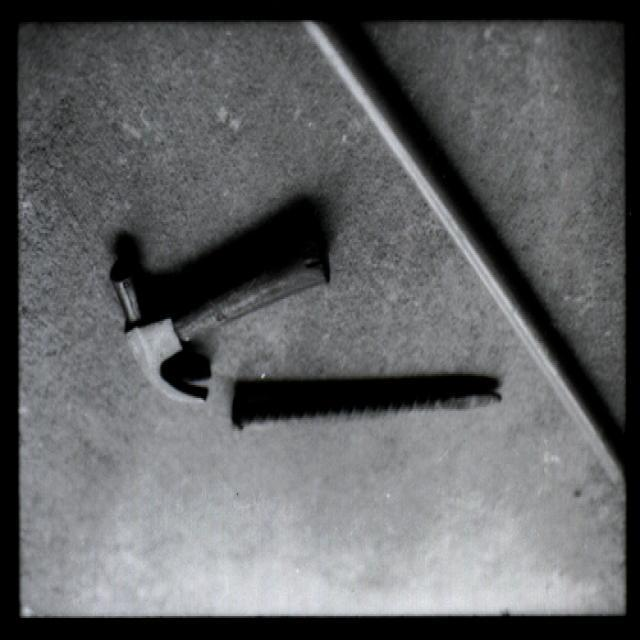hammer: (106, 213, 340, 420)
